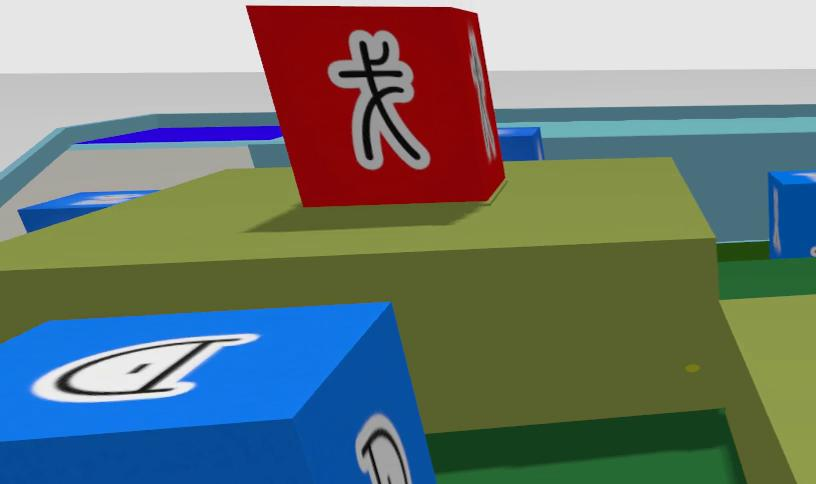KFS_FAKE: (326, 30, 430, 170)
KFS_REAL: (31, 333, 258, 402), (328, 30, 430, 170), (355, 413, 411, 483), (810, 245, 815, 255)
